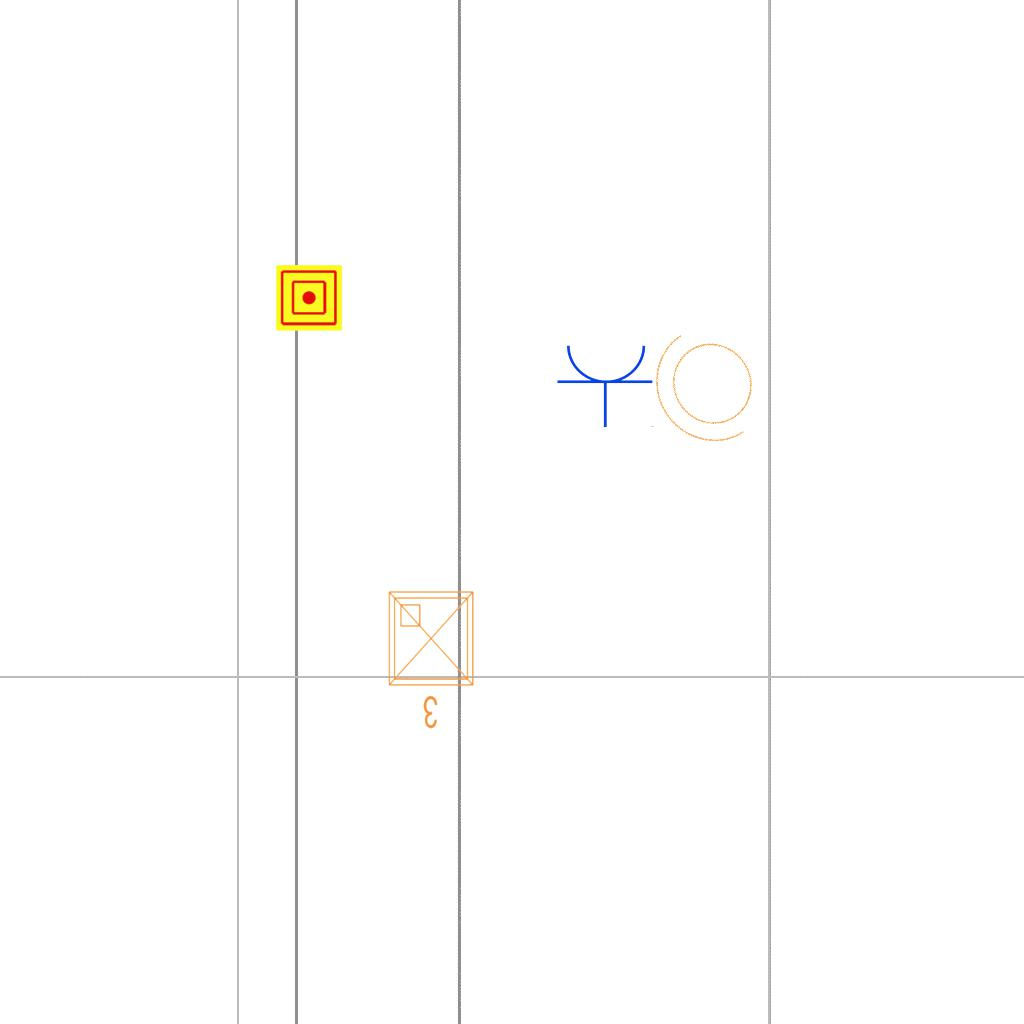Einbaudownlights_LED_Konferenzraeume: (381, 584, 485, 734)
NAM-Nichtautomatischer_Melder: (276, 265, 342, 331)
Scheinwerfer_fuer_Alarmbeleuchtung: (627, 303, 793, 475)
Schukosteckdose_einfach: (556, 341, 656, 428)
